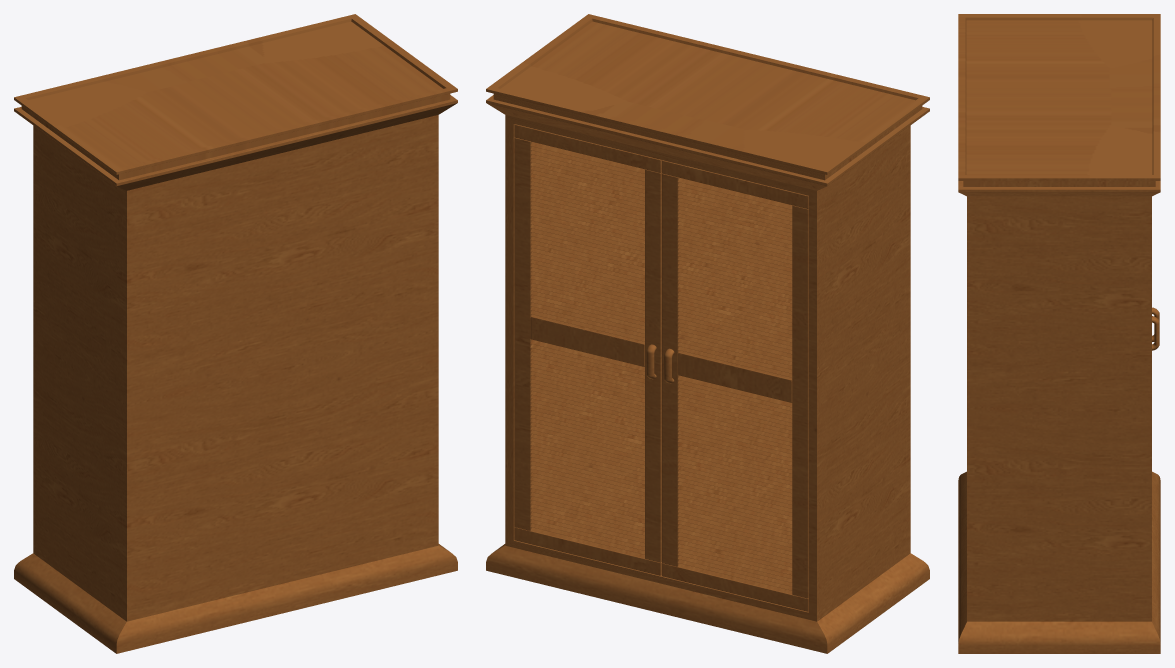
Rendered from Wardrobe.fbx.
3 views of the same model, side by side, from view 1: azimuth 30°, elevation 25°; view 2: azimuth 150°, elevation 25°; view 3: azimuth 270°, elevation 25° (orthographic).
Visible parts, largest first — view 1: closet__latter_and_chair:cabinet; view 2: closet__latter_and_chair:cabinet; view 3: closet__latter_and_chair:cabinet.
Part boxes in pixels (x1,y1,x2,y2): closet__latter_and_chair:cabinet: [14, 14, 457, 653]; closet__latter_and_chair:cabinet: [486, 14, 929, 653]; closet__latter_and_chair:cabinet: [958, 14, 1160, 653].
Size of the model in its own units: 137 by 184 by 71.14.
